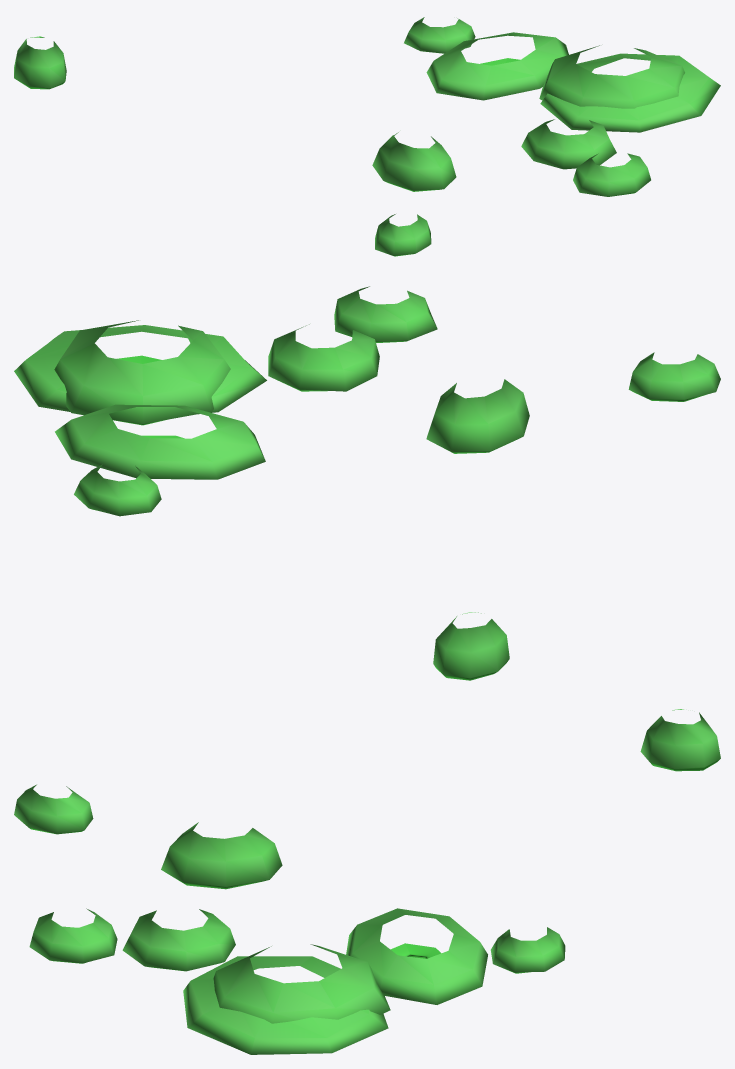
File: moss_patch_v0.glb
3 renders of one model, top to bottom at view 1: azimuth 30°, elevation 25°; view 2: azimuth 150°, elevation 25°; view 3: azimuth 270°, elevation 25°, orthographic. The views are drawn at different scales.
Bounding box in the file's own units: 1 × 0.0888 × 0.9639.
